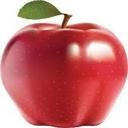apple: (1, 18, 128, 127)
